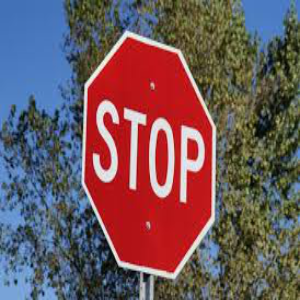STOP_SIGN: (80, 29, 217, 282)
